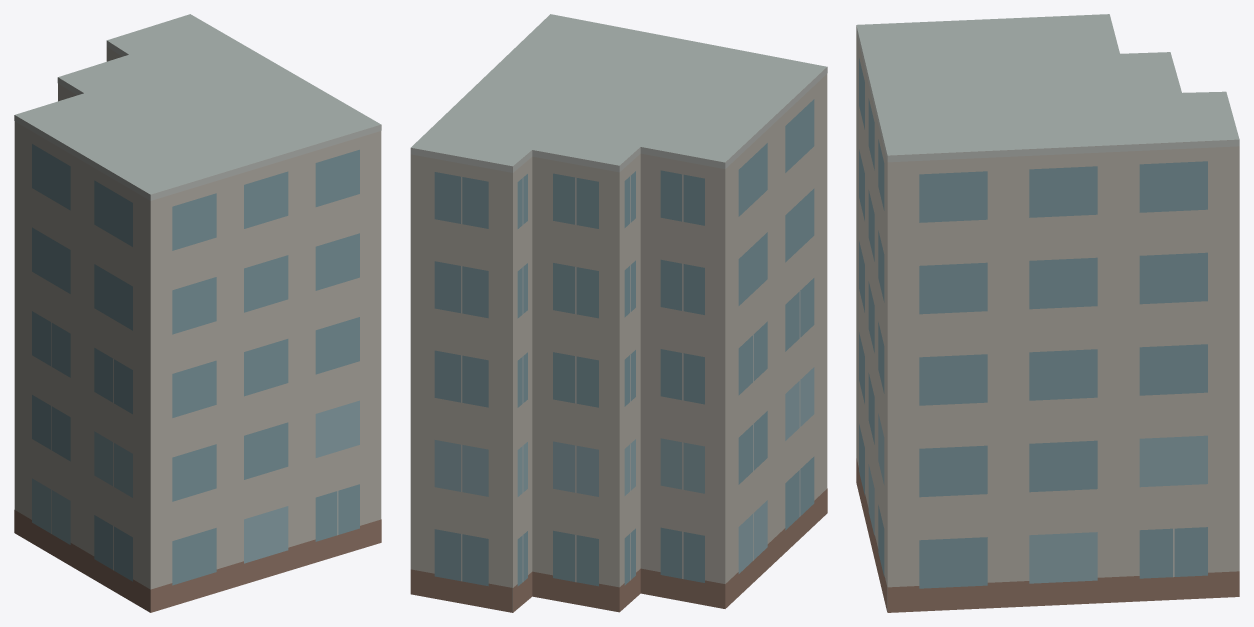
The model's file is survey-upis-32816916.glb.
The picture shows the model from 3 angles, left to right: view 1: azimuth 30°, elevation 25°; view 2: azimuth 150°, elevation 25°; view 3: azimuth 270°, elevation 25°; orthographic projection. The views are drawn at different scales.
Visible parts, largest first — view 1: survey-upis-32816916.tmp; view 2: survey-upis-32816916.tmp; view 3: survey-upis-32816916.tmp.
Boxes of the visible parts, left/top/right/bottom form: survey-upis-32816916.tmp: left=14, top=14, right=381, bottom=612; survey-upis-32816916.tmp: left=410, top=14, right=827, bottom=612; survey-upis-32816916.tmp: left=856, top=14, right=1239, bottom=612.
Size of the model in its own units: 10.83 by 16.3 by 12.39.
